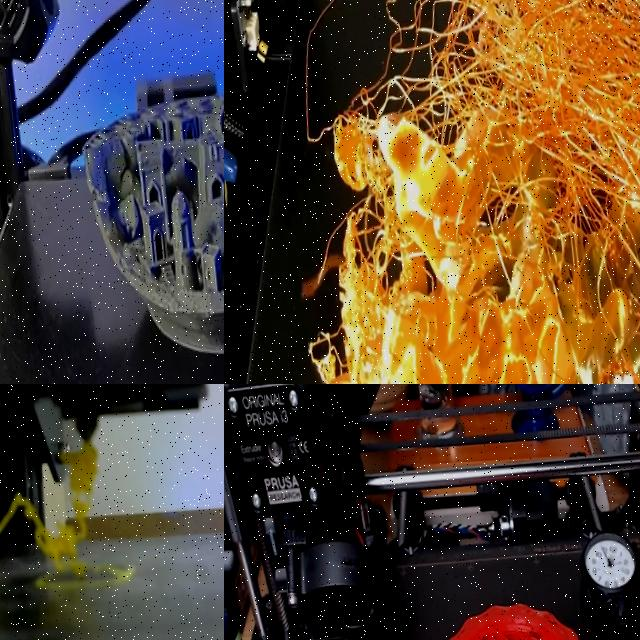spaghetti: (253, 0, 640, 384), (0, 441, 133, 587)
